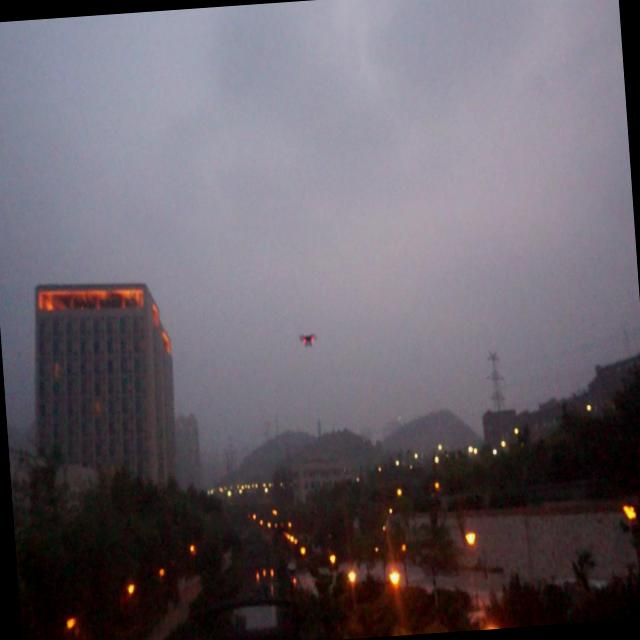drone: (298, 326, 319, 354)
